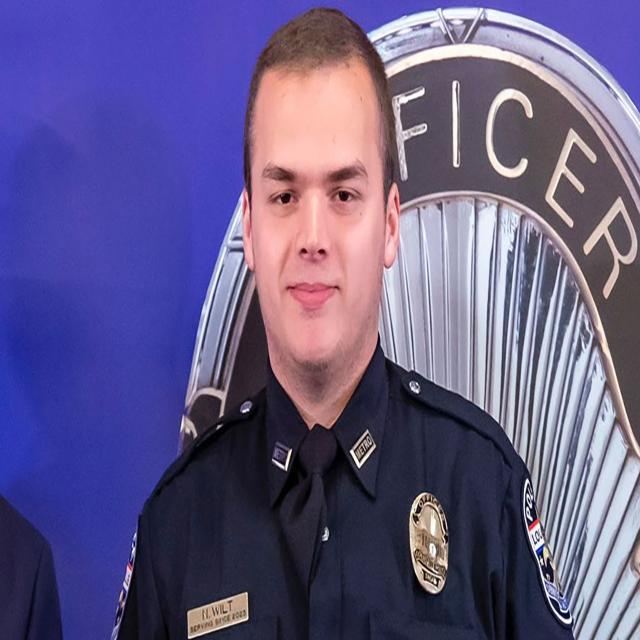police: (110, 3, 583, 640)
